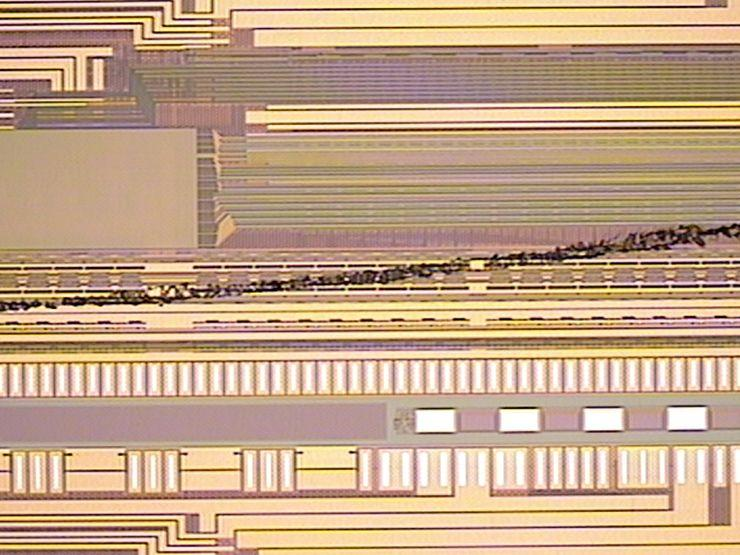SCRATCH: (1, 215, 740, 326)
